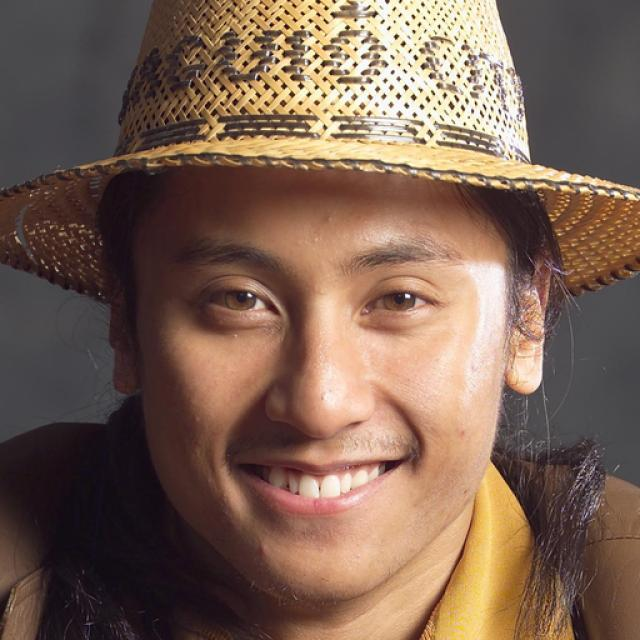happy: (138, 165, 508, 609)
